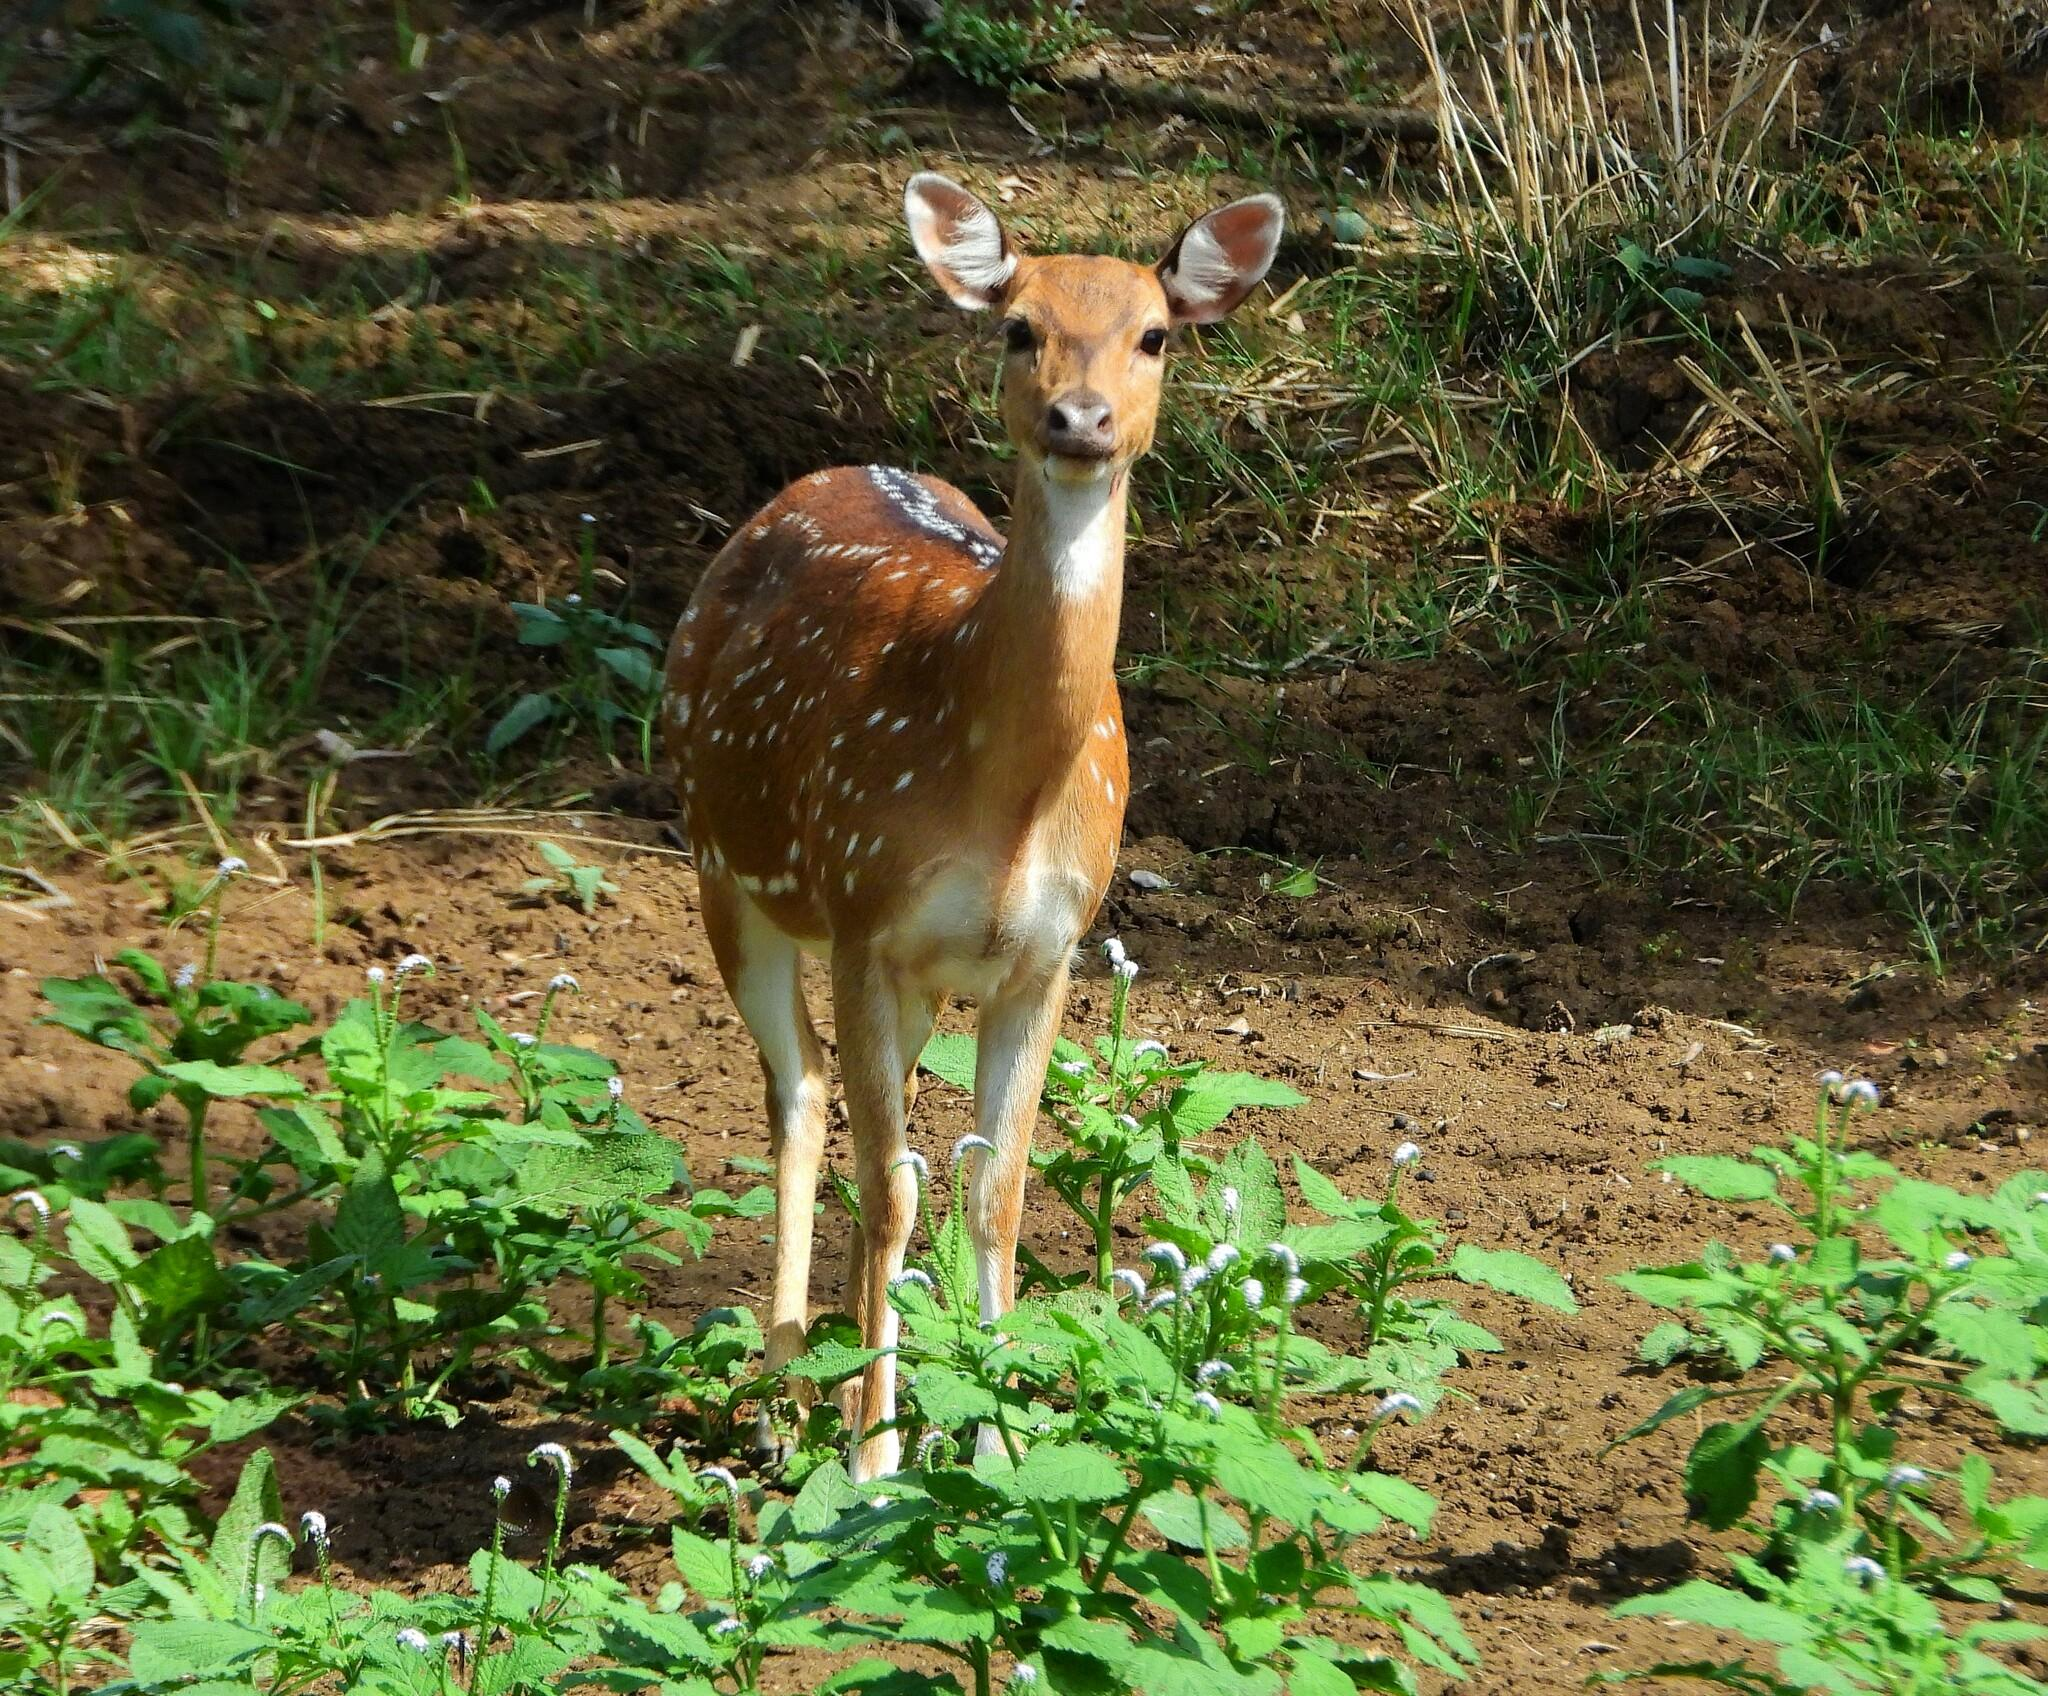Deer: (662, 172, 1281, 1366)
